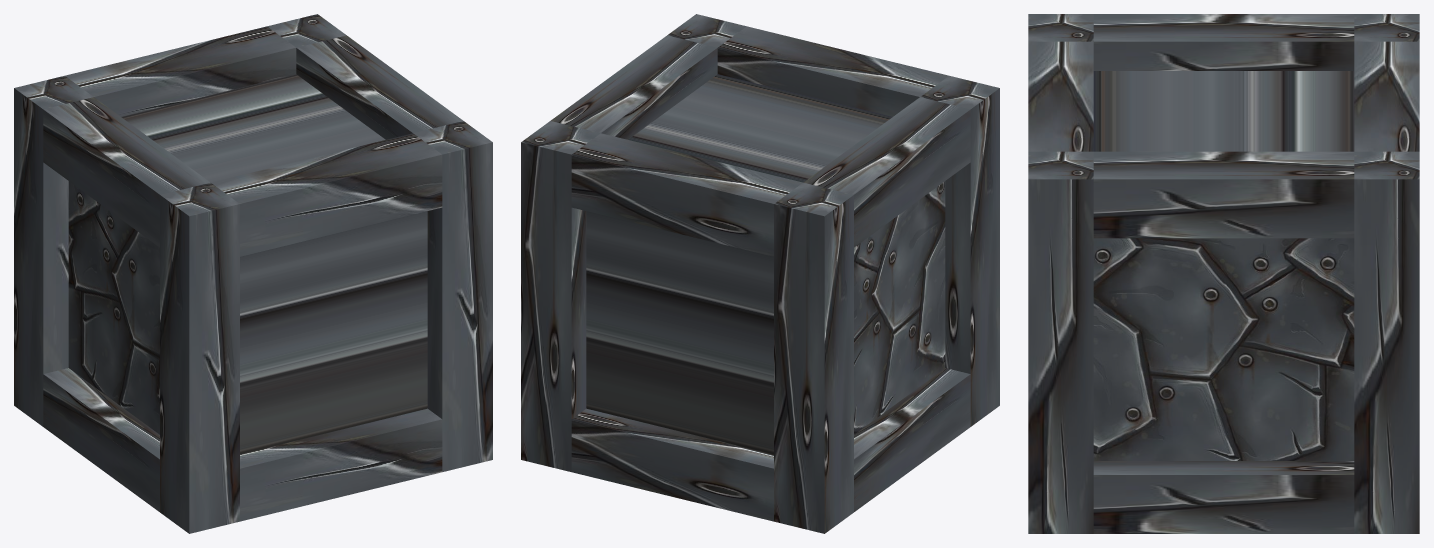
Rendered from steel_crate.fbx.
3 views of the same model, side by side, from view 1: azimuth 30°, elevation 25°; view 2: azimuth 150°, elevation 25°; view 3: azimuth 270°, elevation 25° (orthographic). The views are drawn at different scales.
Visible parts, largest first — view 1: SteelCrate; view 2: SteelCrate; view 3: SteelCrate.
Part boxes in pixels (x1=…): SteelCrate: x1=14, y1=14, x2=492, y2=533; SteelCrate: x1=521, y1=14, x2=999, y2=533; SteelCrate: x1=1028, y1=14, x2=1419, y2=533.
Bounding box in the file's own units: 1.2 × 1.2 × 1.2.
1 material, 1 textured.
